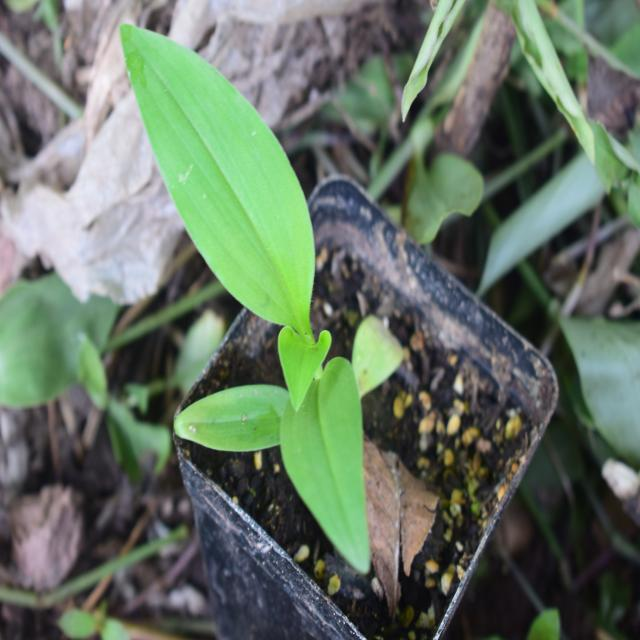Common Dayflower: (122, 33, 396, 556)
